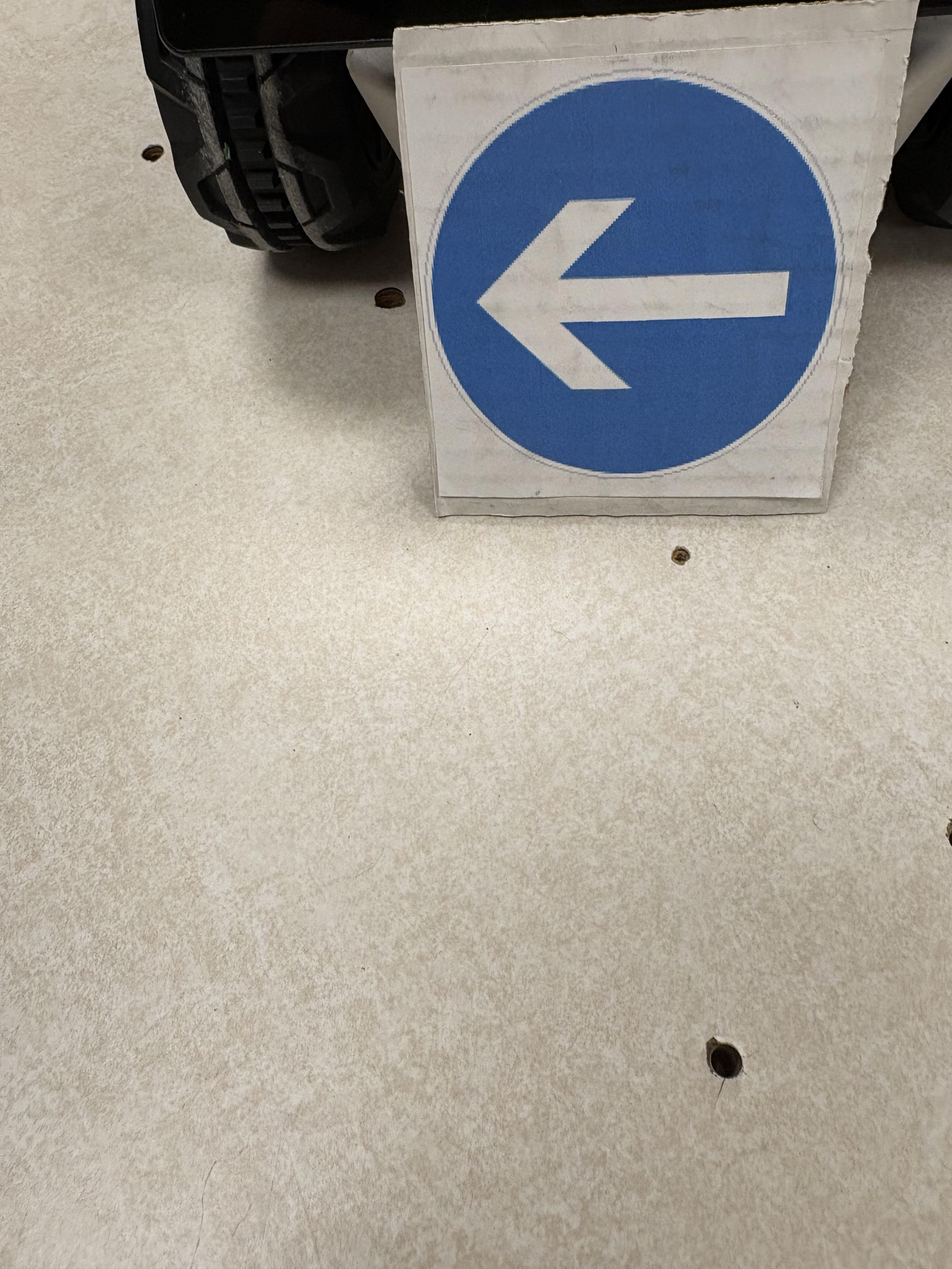Proceed Left: (296, 3, 685, 692)
